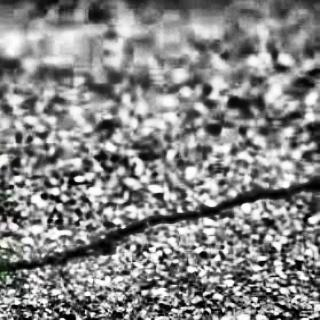crack: (9, 166, 308, 269)
